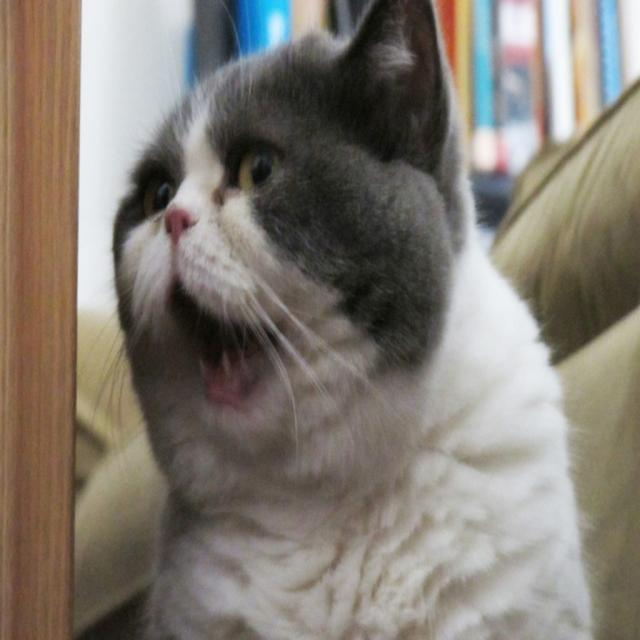Cat: (76, 0, 594, 639)
